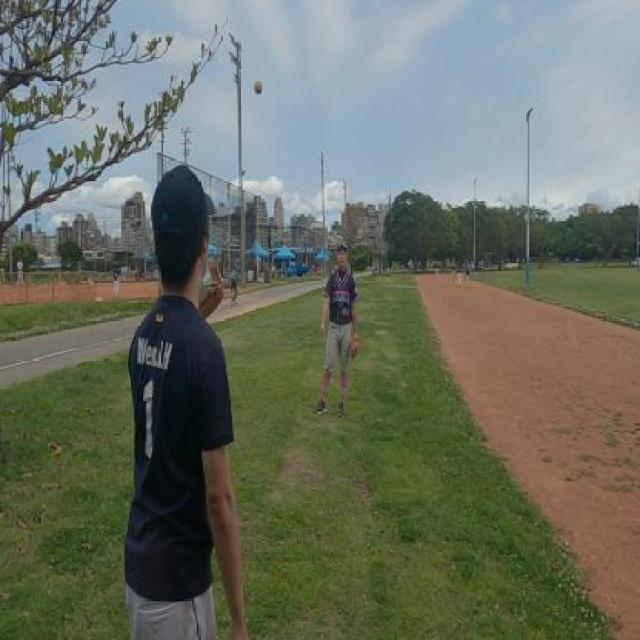baseball: (254, 79, 261, 95)
